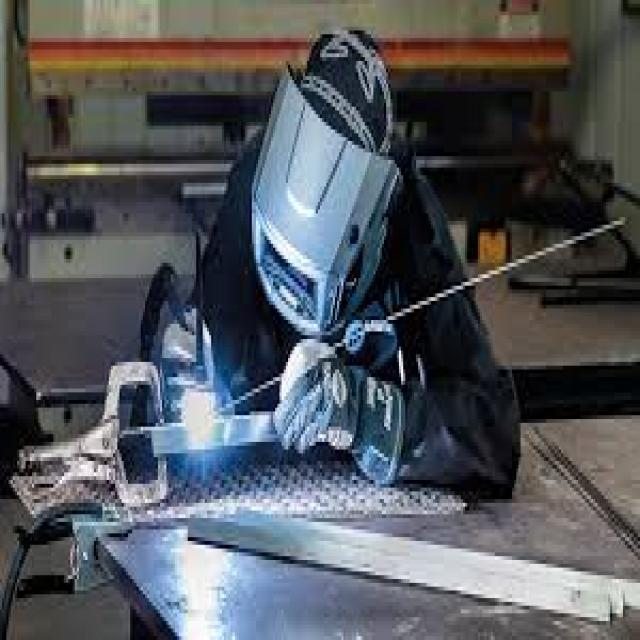welding: (183, 391, 217, 448)
